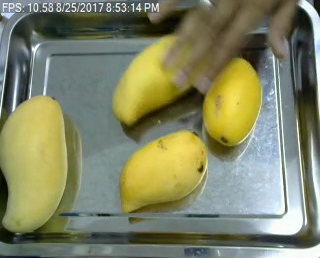Mango: (0, 94, 73, 237), (103, 32, 210, 124), (116, 130, 210, 215), (197, 58, 267, 150)
